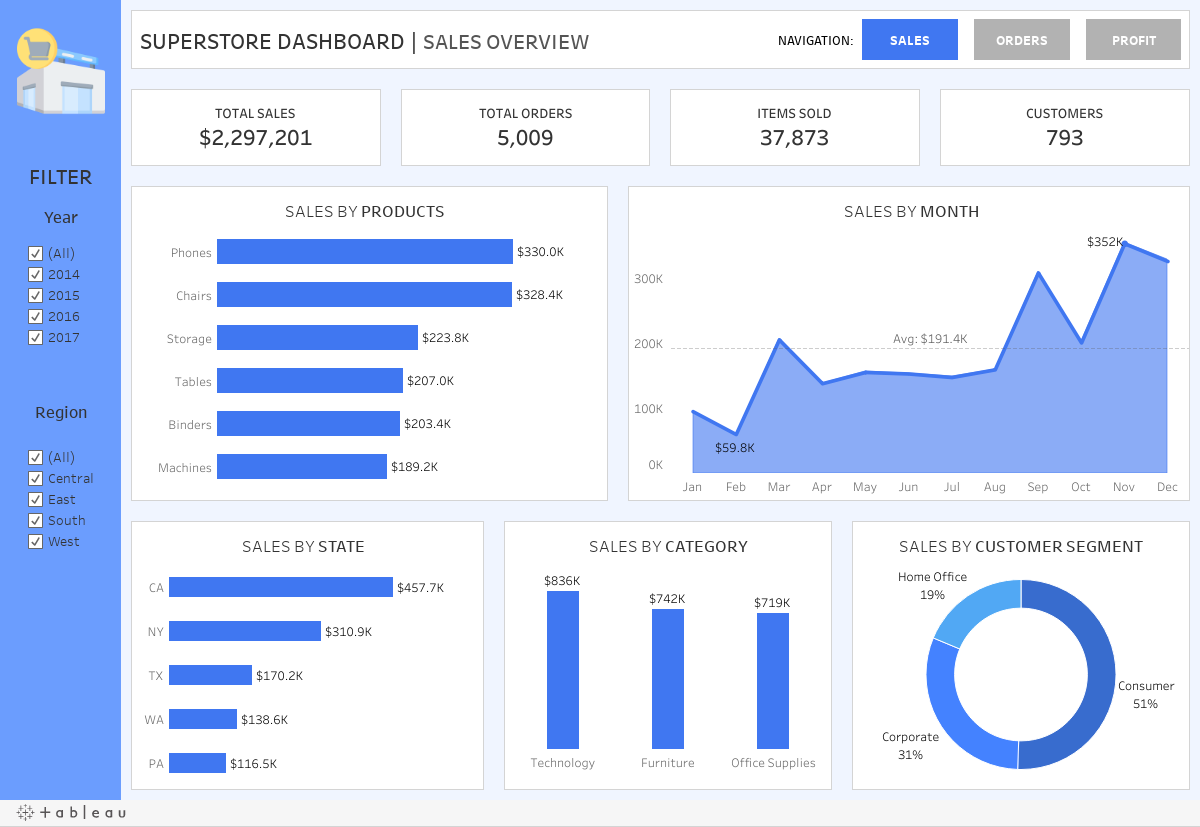

This screenshot's page, from the dashboard's own definition file:
{"tool":"tableau","page":{"name":"Dashboard 1","canvas":[1200,1000],"ordinal":0},"visuals":[{"type":"blank","box":[0,0,121,201]},{"type":"text","box":[139,10,598,56]},{"type":"text","box":[737,10,118,56]},{"type":"dashboard-object","box":[855,10,112,56]},{"type":"dashboard-object","box":[967,10,112,56]},{"type":"dashboard-object","box":[1079,10,111,56]},{"type":"image","param":"Image/supermaket (1).png","box":[10,48,101,99]},{"type":"worksheet","title":"Sales KPI","mark":"Automatic","box":[121,76,269.7,144]},{"type":"worksheet","title":"Orders KPI","mark":"Automatic","box":[390.7,76,269.7,144]},{"type":"worksheet","title":"Quantity KPI","mark":"Automatic","box":[660.5,76,269.7,144]},{"type":"worksheet","title":"Customers KPI","mark":"Automatic","box":[930.2,76,269.7,144]},{"type":"text","box":[0,201,121,73]},{"type":"worksheet","title":"Sales by Products","mark":"Automatic","rows":["Sub-Category"],"cols":["Sales"],"box":[121,220,497,419]},{"type":"worksheet","title":"Sales by Month","mark":"Line","rows":["Sales","Sales (copy)_1168965619903647745"],"cols":["Order Date"],"box":[618,220,582,419]},{"type":"text","box":[0,274,121,36]},{"type":"filter","title":"Sales by Month","param":"[federated.07ate7d07qojgl17shy8v0pl9wvw].[yr:Order Date:ok]","box":[24,318,85,151]},{"type":"text","box":[0,477,121,36]},{"type":"blank","box":[0,513,121,487]},{"type":"filter","title":"Sales by Month","param":"[federated.07ate7d07qojgl17shy8v0pl9wvw].[none:Region:nk]","box":[24,523,93,154]},{"type":"worksheet","title":"Sales by State","mark":"Automatic","rows":["Calculation_1163617595406110720"],"cols":["Sales"],"box":[121,639,373,361]},{"type":"worksheet","title":"Sales by Category","mark":"Automatic","rows":["Sales"],"cols":["Category"],"box":[494,639,348,361]},{"type":"worksheet","title":"Segment","mark":"Pie","rows":["Calculation_1168965619898429440","Calculation_1168965619898429440"],"box":[842,639,358,361]}]}

Visuals, with their boxes on the page's 1200x1000 design canvas (x1, y1, x2, y2). These are canvas units, not pixel positions in the 1200x827 screenshot, which may show the page scaled, cropped or inside an application window:
blank: region(0, 0, 121, 201)
text: region(139, 10, 737, 66)
text: region(737, 10, 855, 66)
dashboard-object: region(855, 10, 967, 66)
dashboard-object: region(967, 10, 1079, 66)
dashboard-object: region(1079, 10, 1190, 66)
image: region(10, 48, 111, 147)
"Sales KPI" worksheet: region(121, 76, 391, 220)
"Orders KPI" worksheet: region(391, 76, 660, 220)
"Quantity KPI" worksheet: region(660, 76, 930, 220)
"Customers KPI" worksheet: region(930, 76, 1200, 220)
text: region(0, 201, 121, 274)
"Sales by Products" worksheet: region(121, 220, 618, 639)
"Sales by Month" worksheet (Line marks): region(618, 220, 1200, 639)
text: region(0, 274, 121, 310)
"Sales by Month" filter: region(24, 318, 109, 469)
text: region(0, 477, 121, 513)
blank: region(0, 513, 121, 1000)
"Sales by Month" filter: region(24, 523, 117, 677)
"Sales by State" worksheet: region(121, 639, 494, 1000)
"Sales by Category" worksheet: region(494, 639, 842, 1000)
"Segment" worksheet (Pie marks): region(842, 639, 1200, 1000)
